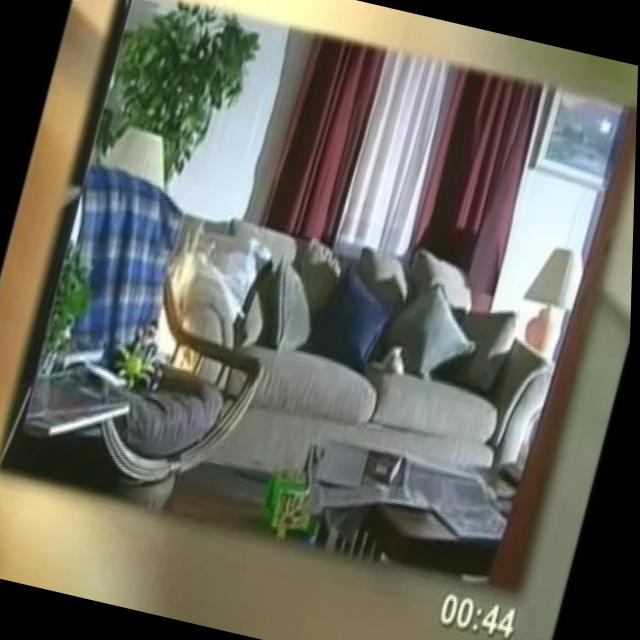fire: (141, 222, 233, 376)
